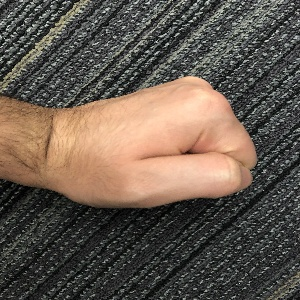hand: (59, 76, 257, 209)
